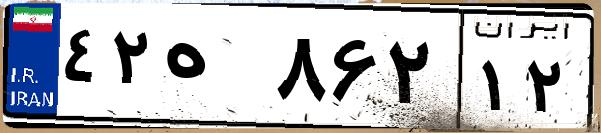1: (475, 38, 525, 113)
2: (385, 28, 445, 110), (525, 38, 570, 115), (110, 28, 158, 98)
4: (57, 26, 110, 100)
6: (330, 28, 385, 110)
8: (270, 28, 330, 110)
ه: (158, 20, 270, 120)
